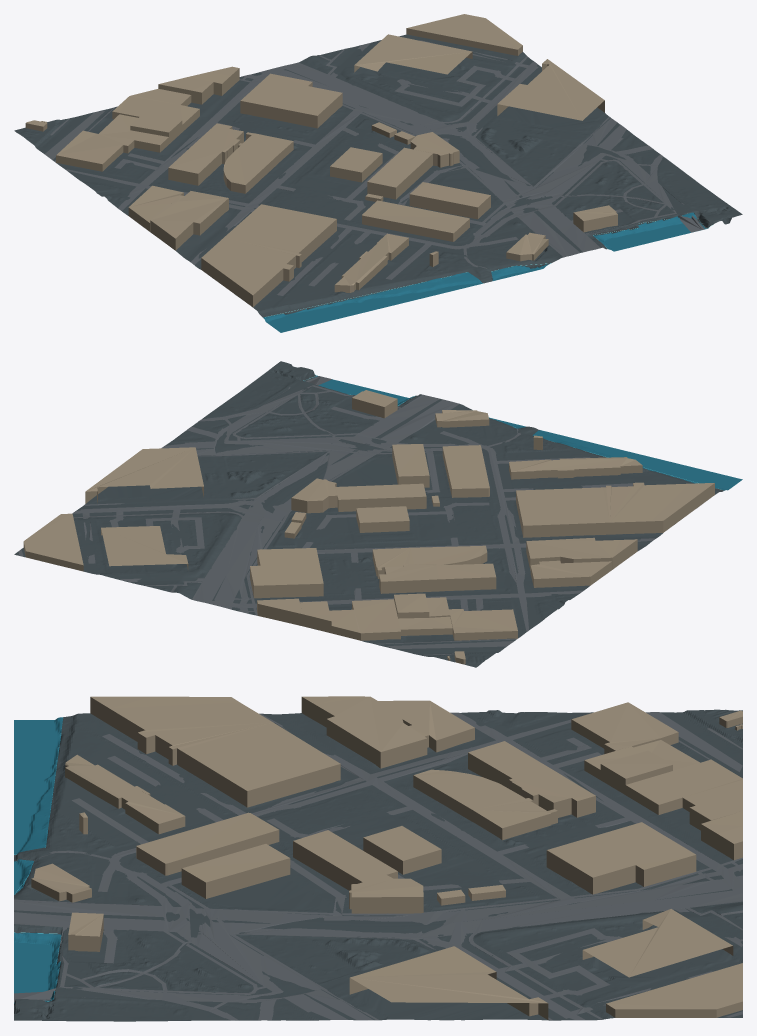
The model's file is epsg26910-1442-10879.lod0.glb.
3 renders of one model, top to bottom at view 1: azimuth 30°, elevation 25°; view 2: azimuth 150°, elevation 25°; view 3: azimuth 270°, elevation 25°, orthographic. The views are drawn at different scales.
Visible parts, largest first — view 1: epsg26910-1442-10879-lod0; view 2: epsg26910-1442-10879-lod0; view 3: epsg26910-1442-10879-lod0.
Part boxes in pixels (x1,y1,x2,y2): epsg26910-1442-10879-lod0: [14, 14, 742, 332]; epsg26910-1442-10879-lod0: [14, 361, 742, 667]; epsg26910-1442-10879-lod0: [14, 696, 742, 1021].
Size of the model in its own units: 384 by 15.01 by 384.
